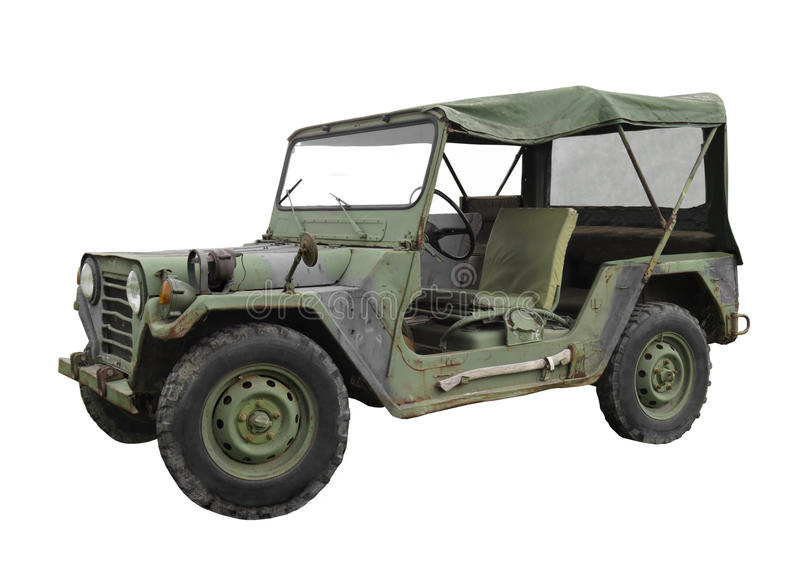jeep: (70, 101, 751, 490)
